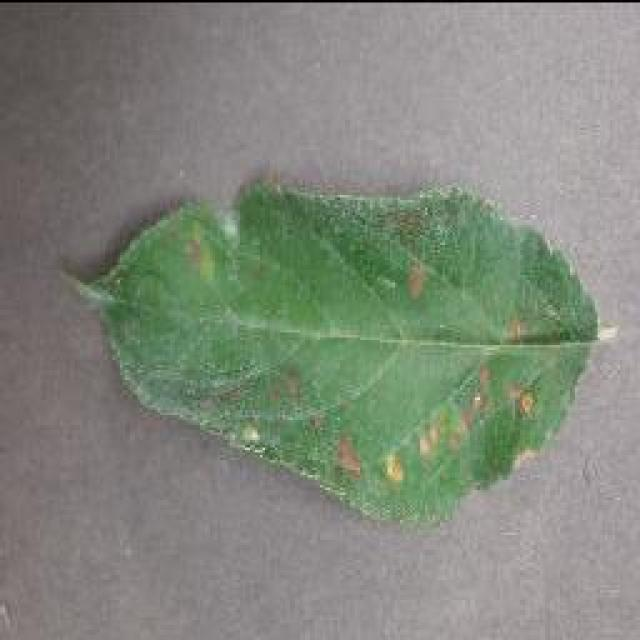apple rust disease: (65, 170, 613, 528)
